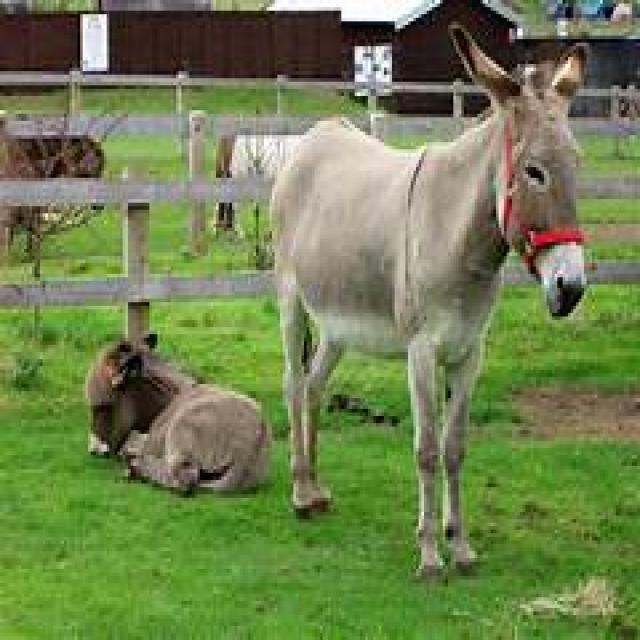Donkey: (245, 13, 616, 565)
